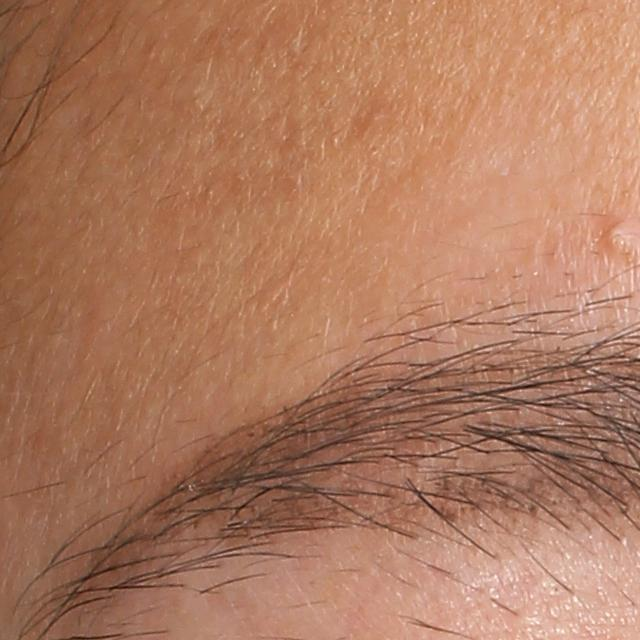papule: (600, 222, 637, 264)
